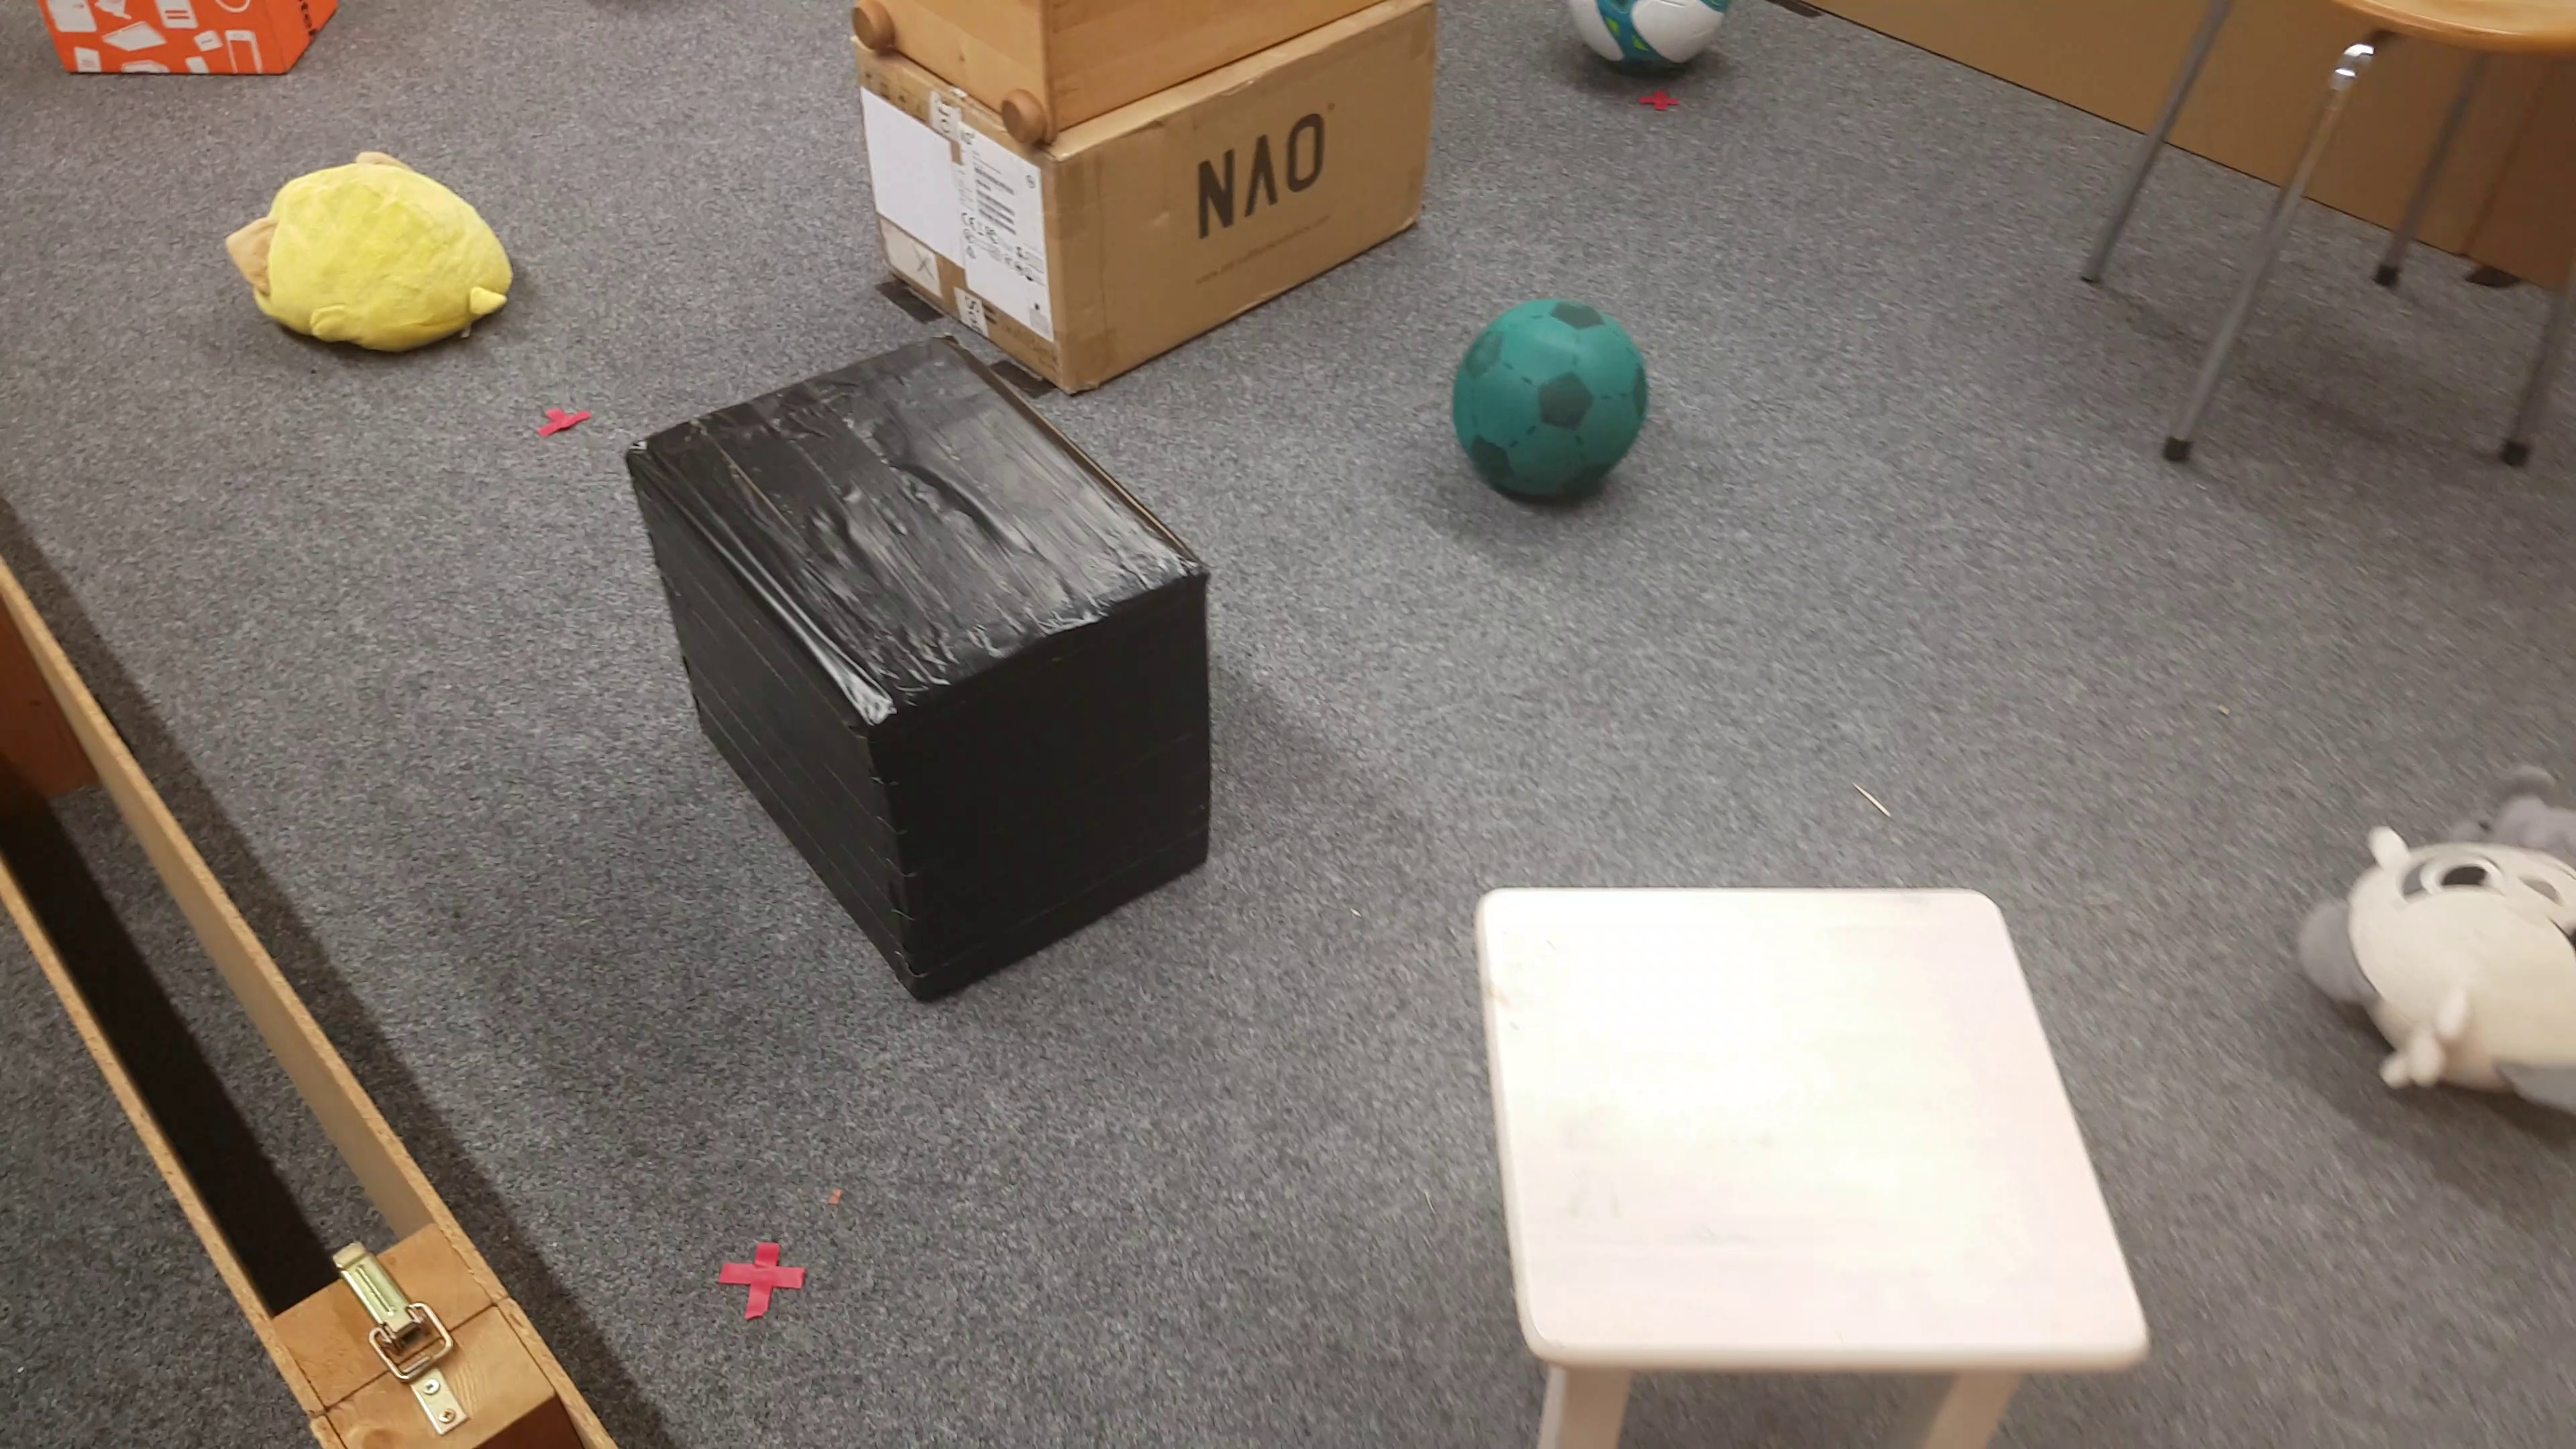grasp: (2293, 763, 2576, 1139), (232, 140, 511, 361)
kick: (1449, 292, 1652, 515), (1568, 0, 1732, 85)
push: (623, 341, 1215, 1012), (42, 0, 341, 83)
